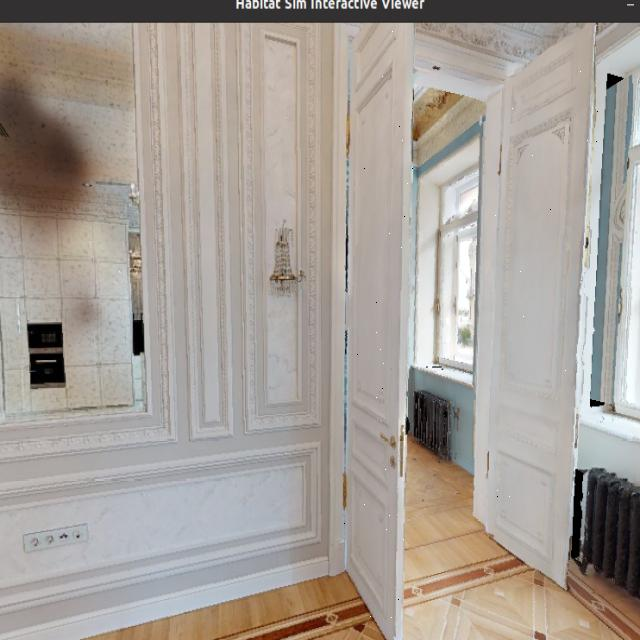door: (487, 26, 609, 574), (343, 25, 415, 640)
door-frame: (384, 56, 497, 564)
